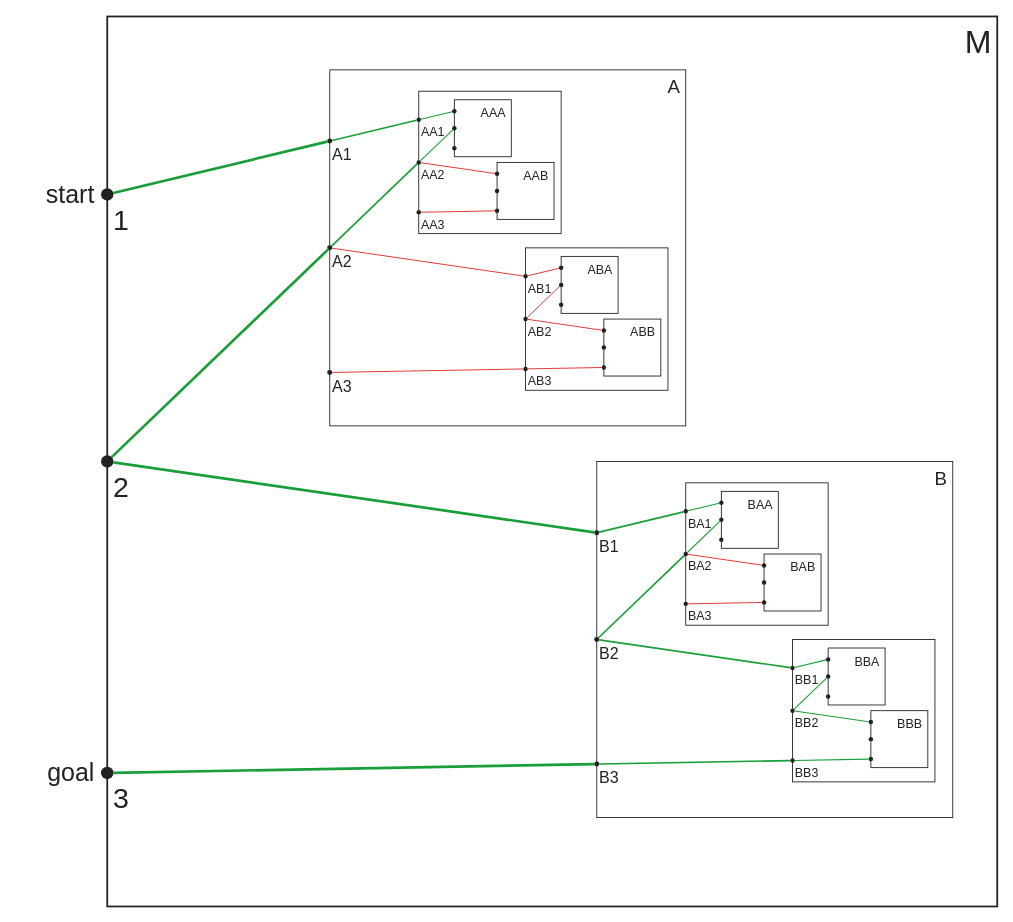
Some shapes in this 1013 by 922 pixel diagram are drawn without their labels. Here are the shapes that lost their labels. From the top down, the box of each, then its label:
(418, 90, 561, 234): AA
(525, 247, 668, 390): AB
(685, 482, 828, 625): BA
(792, 639, 935, 782): BB
